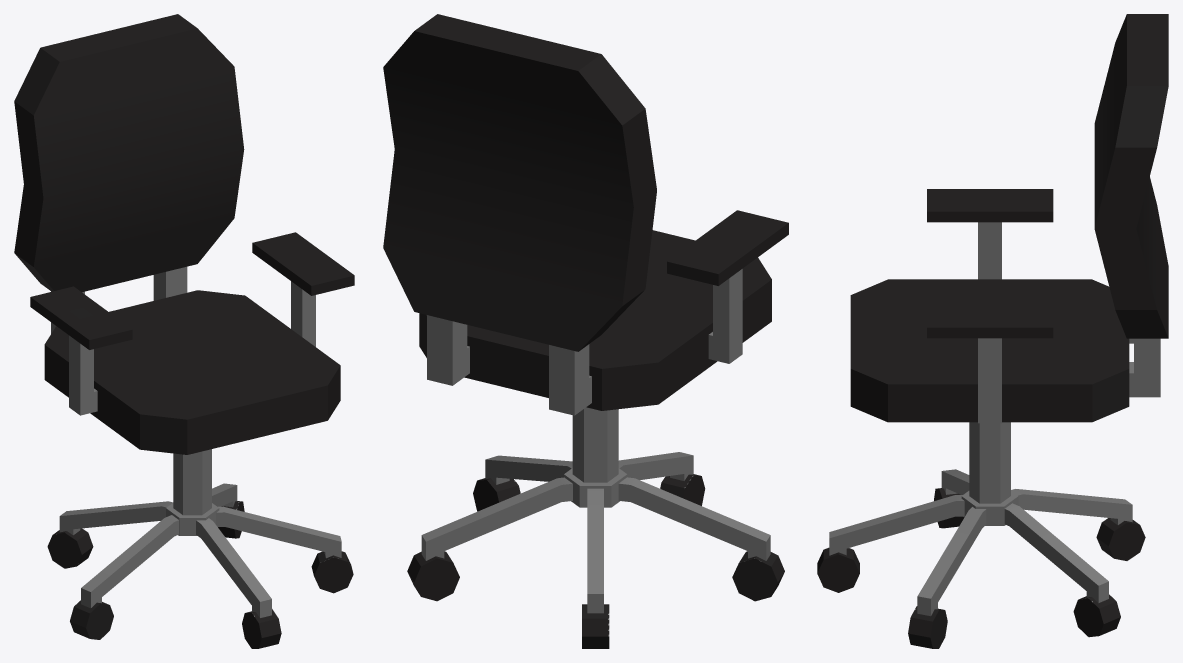
Rendered from chair2.fbx.
3 renders of one model, left to right at view 1: azimuth 30°, elevation 25°; view 2: azimuth 150°, elevation 25°; view 3: azimuth 270°, elevation 25°, orthographic. The views are drawn at different scales.
Parts seen in each view (by area): view 1: set_sillas; view 2: set_sillas; view 3: set_sillas.
Part boxes in pixels (x1=…): set_sillas: x1=14, y1=14, x2=354, y2=648; set_sillas: x1=383, y1=14, x2=788, y2=648; set_sillas: x1=817, y1=14, x2=1168, y2=648.
Size of the model in its own units: 0.4415 by 0.7835 by 0.4633.
